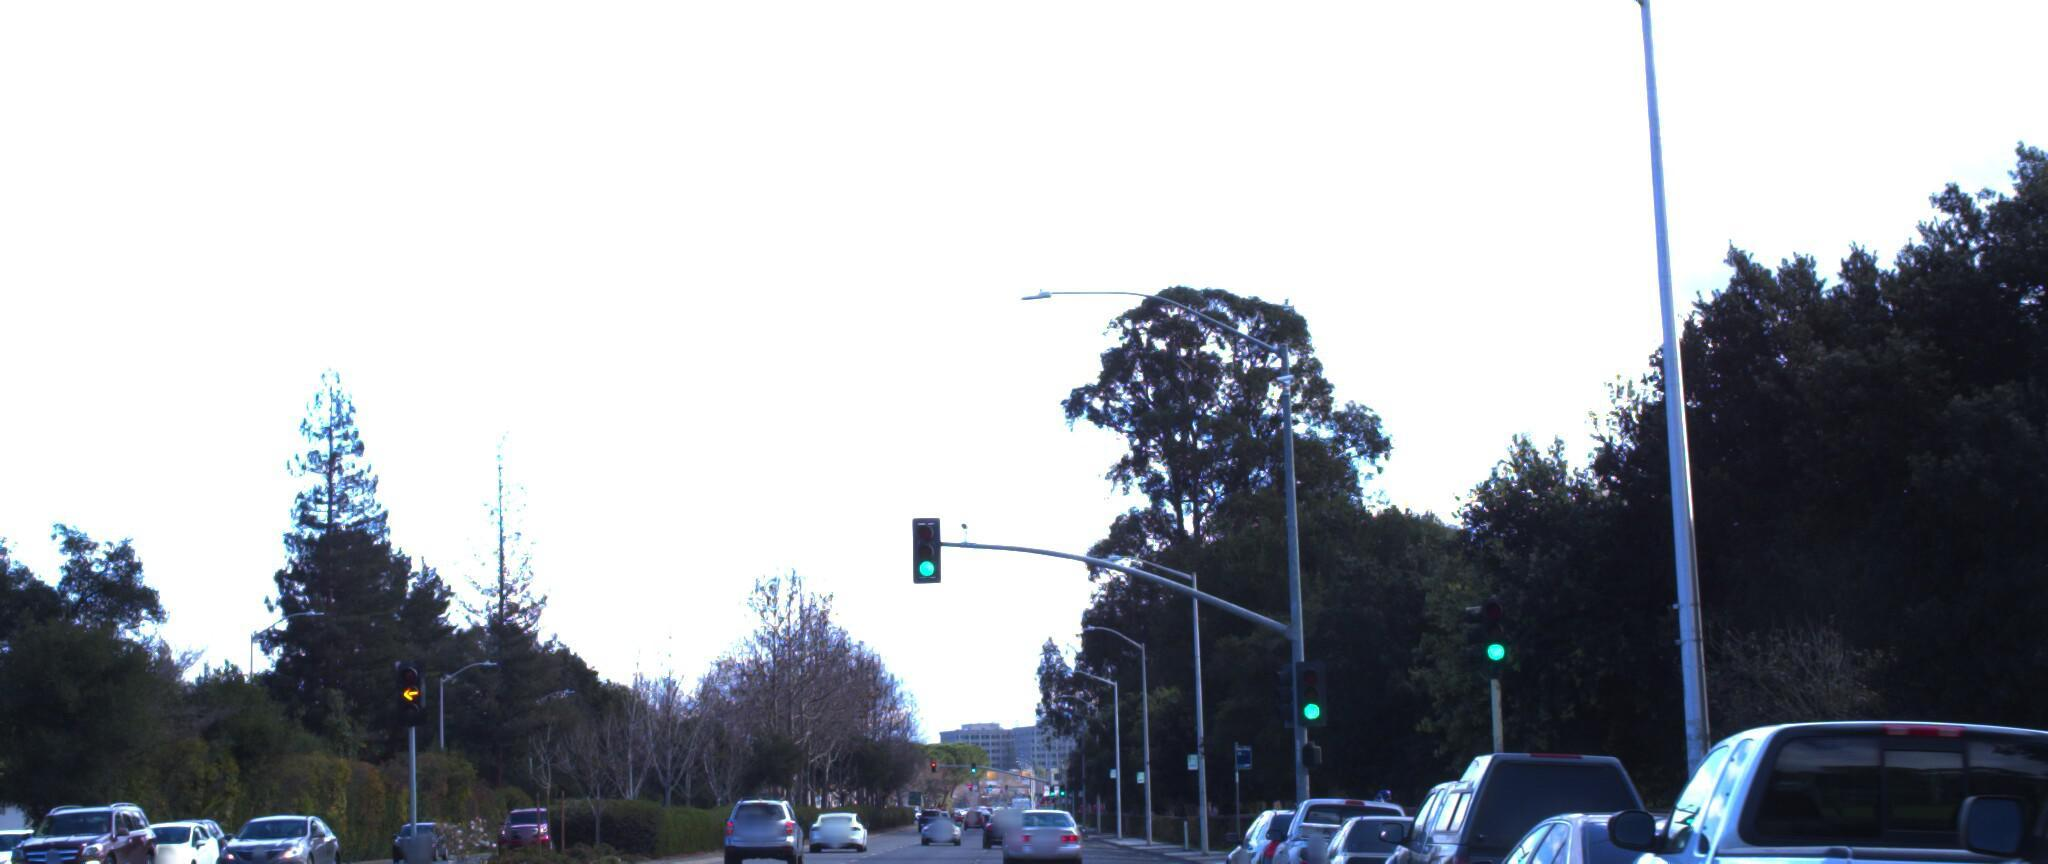car: (1556, 673, 2048, 864), (1856, 576, 2048, 864), (1369, 737, 1689, 864), (1438, 796, 1890, 864), (1266, 788, 1451, 864), (1298, 805, 1510, 864), (10, 791, 172, 864), (107, 804, 235, 864), (709, 783, 797, 860), (987, 796, 1071, 864), (0, 805, 67, 864)
